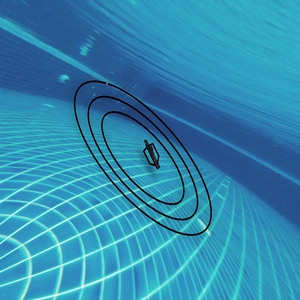submarine: (141, 138, 161, 169)
